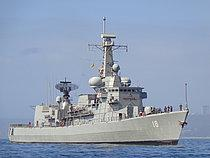MIL_Ship: (7, 18, 190, 146)
